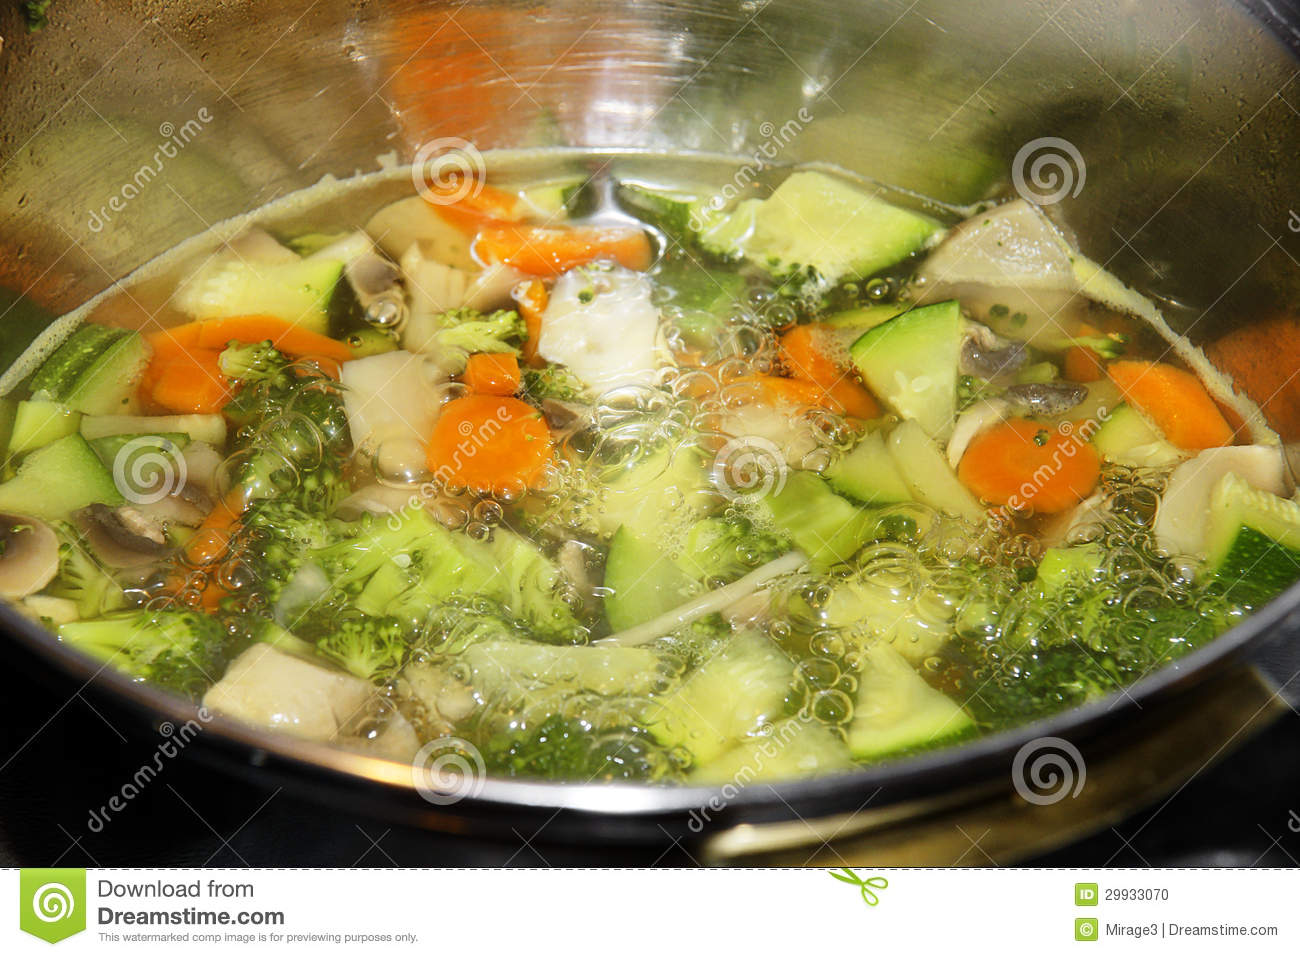chopped lettuce: (293, 491, 603, 641)
